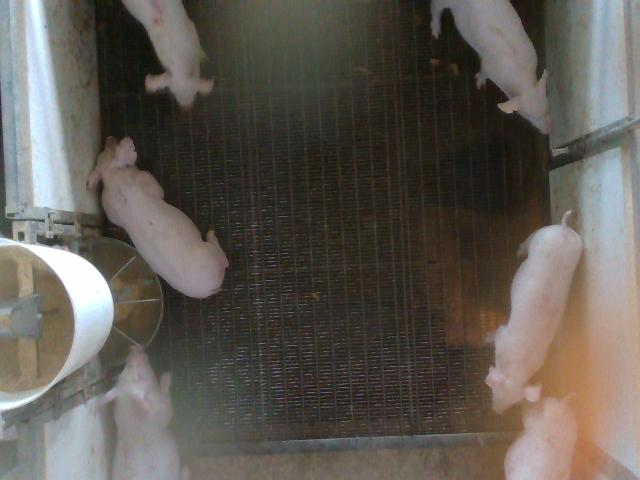pig-4: (486, 210, 582, 413)
